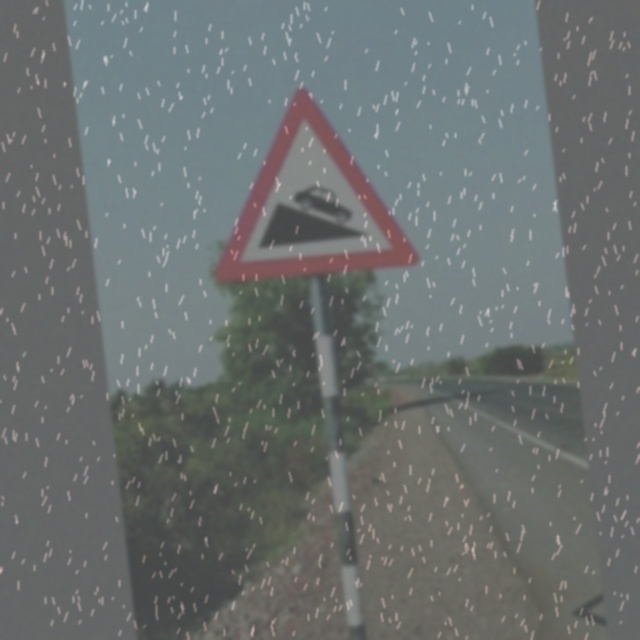Steep_Descent: (206, 74, 423, 286)
